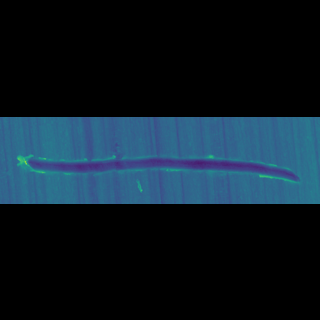Loch: (13, 156, 303, 166), (131, 164, 144, 168)
